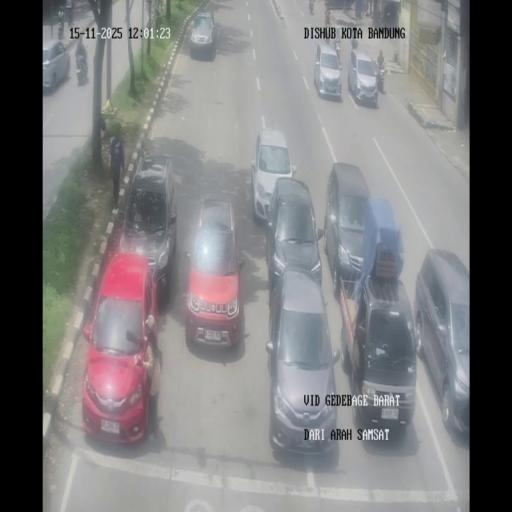car: (82, 253, 160, 444), (266, 270, 338, 458), (414, 252, 469, 441), (184, 196, 244, 350), (119, 155, 178, 300), (250, 128, 295, 226), (348, 46, 378, 107), (313, 40, 342, 100), (42, 40, 70, 94), (189, 10, 218, 61)
motorcycle: (76, 54, 88, 84), (376, 62, 386, 93), (57, 17, 64, 40), (335, 38, 341, 62), (374, 8, 382, 25), (362, 0, 369, 17), (324, 10, 330, 26), (309, 1, 315, 15), (351, 37, 358, 48), (324, 0, 328, 11)
